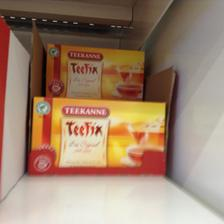Tee: (29, 95, 167, 166), (44, 42, 144, 98)
